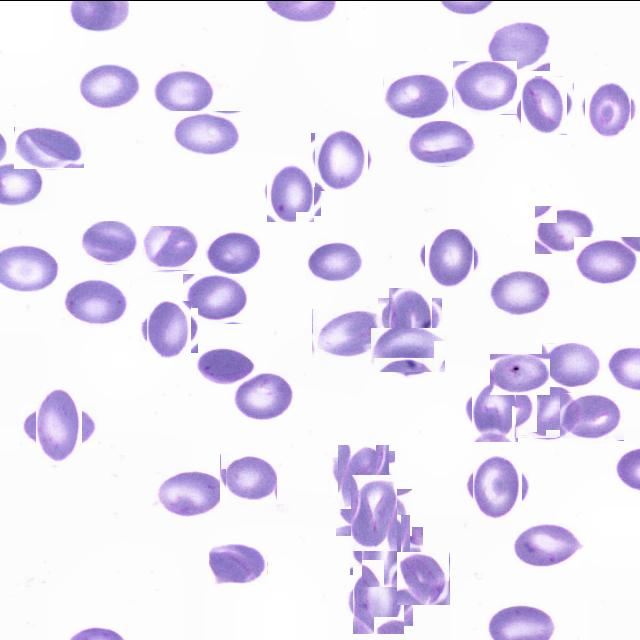red blood cell: (28, 394, 90, 456), (344, 480, 404, 542), (348, 570, 408, 630), (356, 520, 416, 580), (60, 277, 130, 328), (452, 60, 517, 114), (312, 308, 382, 358), (157, 468, 226, 518), (515, 386, 580, 438), (370, 327, 445, 372), (312, 130, 370, 188), (468, 458, 526, 516), (334, 447, 392, 505), (183, 273, 250, 323), (487, 19, 550, 70), (383, 72, 452, 118), (234, 370, 297, 420), (171, 110, 242, 154), (559, 392, 624, 440), (574, 236, 640, 283), (408, 120, 475, 166), (513, 522, 580, 568), (534, 205, 596, 254), (422, 230, 478, 284), (78, 63, 141, 110), (468, 384, 522, 438), (383, 292, 437, 346), (15, 126, 84, 168), (488, 268, 551, 314), (264, 165, 318, 218), (518, 78, 570, 132), (191, 344, 256, 387), (220, 452, 277, 501), (78, 220, 141, 264), (396, 552, 449, 604), (153, 68, 215, 112), (542, 342, 601, 388), (208, 540, 267, 586), (143, 304, 195, 356), (140, 225, 199, 270), (582, 84, 634, 134), (490, 353, 550, 394), (306, 238, 364, 280), (206, 230, 260, 274)
